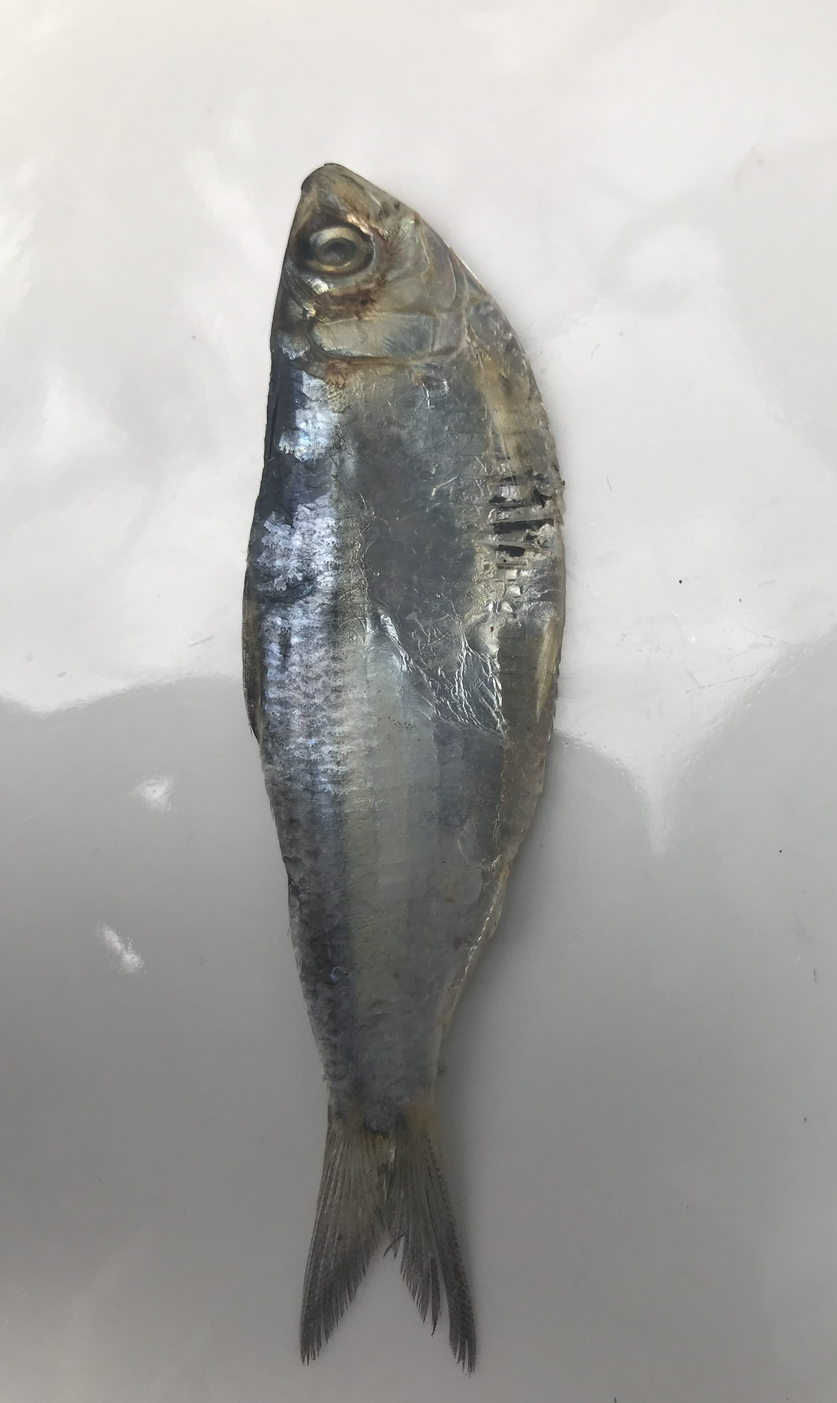tamban_dried_: (0, 0, 837, 888), (456, 549, 547, 717), (273, 496, 341, 699), (290, 688, 369, 771), (279, 372, 338, 460), (451, 636, 473, 715), (105, 930, 141, 968), (352, 616, 374, 662)
